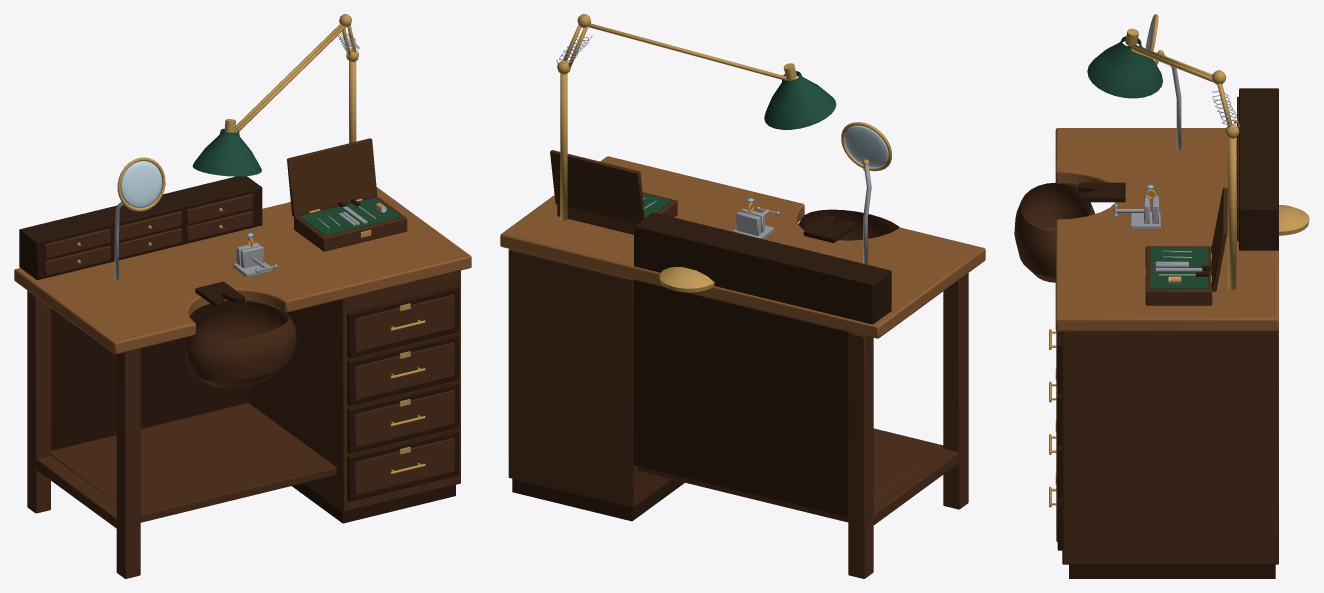
The model's file is jeweler.glb.
3 views of the same model, side by side, from view 1: azimuth 30°, elevation 25°; view 2: azimuth 150°, elevation 25°; view 3: azimuth 270°, elevation 25° (orthographic). The views are drawn at different scales.
Visible parts, largest first — view 1: jeweler_walnut, jeweler_walnut_dark, jeweler_bench_top, jeweler_leather, jeweler_brass, jeweler_shade_enamel, jeweler_steel, jeweler_felt_green, jeweler_glass_lens; view 2: jeweler_walnut_dark, jeweler_walnut, jeweler_bench_top, jeweler_brass, jeweler_shade_enamel, jeweler_steel, jeweler_leather, jeweler_glass_lens; view 3: jeweler_walnut, jeweler_bench_top, jeweler_walnut_dark, jeweler_brass, jeweler_leather, jeweler_shade_enamel, jeweler_steel, jeweler_felt_green.
Boxes of the visible parts, <box> form: jeweler_walnut: <box>27,138,460,578</box>; jeweler_walnut_dark: <box>19,176,459,523</box>; jeweler_bench_top: <box>14,187,471,354</box>; jeweler_leather: <box>185,307,296,388</box>; jeweler_brass: <box>77,14,425,474</box>; jeweler_shade_enamel: <box>192,128,261,176</box>; jeweler_steel: <box>114,33,375,280</box>; jeweler_felt_green: <box>299,198,401,235</box>; jeweler_glass_lens: <box>120,161,386,212</box>; jeweler_walnut_dark: <box>512,212,891,521</box>; jeweler_walnut: <box>508,150,968,578</box>; jeweler_bench_top: <box>500,156,985,338</box>; jeweler_brass: <box>557,14,891,292</box>; jeweler_shade_enamel: <box>764,71,836,129</box>; jeweler_steel: <box>556,35,871,264</box>; jeweler_leather: <box>798,209,899,240</box>; jeweler_glass_lens: <box>844,125,888,167</box>; jeweler_walnut: <box>1056,96,1278,564</box>; jeweler_bench_top: <box>1055,128,1278,331</box>; jeweler_walnut_dark: <box>1057,88,1278,578</box>; jeweler_brass: <box>1049,14,1309,507</box>; jeweler_leather: <box>1014,182,1094,282</box>; jeweler_shade_enamel: <box>1087,36,1162,98</box>; jeweler_steel: <box>1113,54,1239,275</box>; jeweler_felt_green: <box>1150,247,1207,288</box>.
Bounding box in the file's own units: 1.36 × 1.61 × 0.886.
